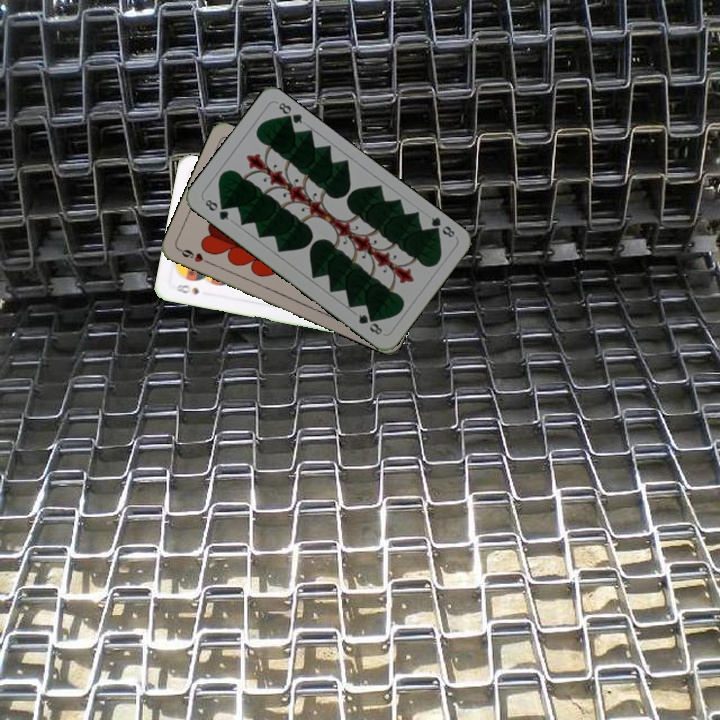G8: (201, 195, 231, 223), (426, 213, 457, 240)
H9: (175, 245, 214, 267)
S8: (171, 280, 201, 297)
